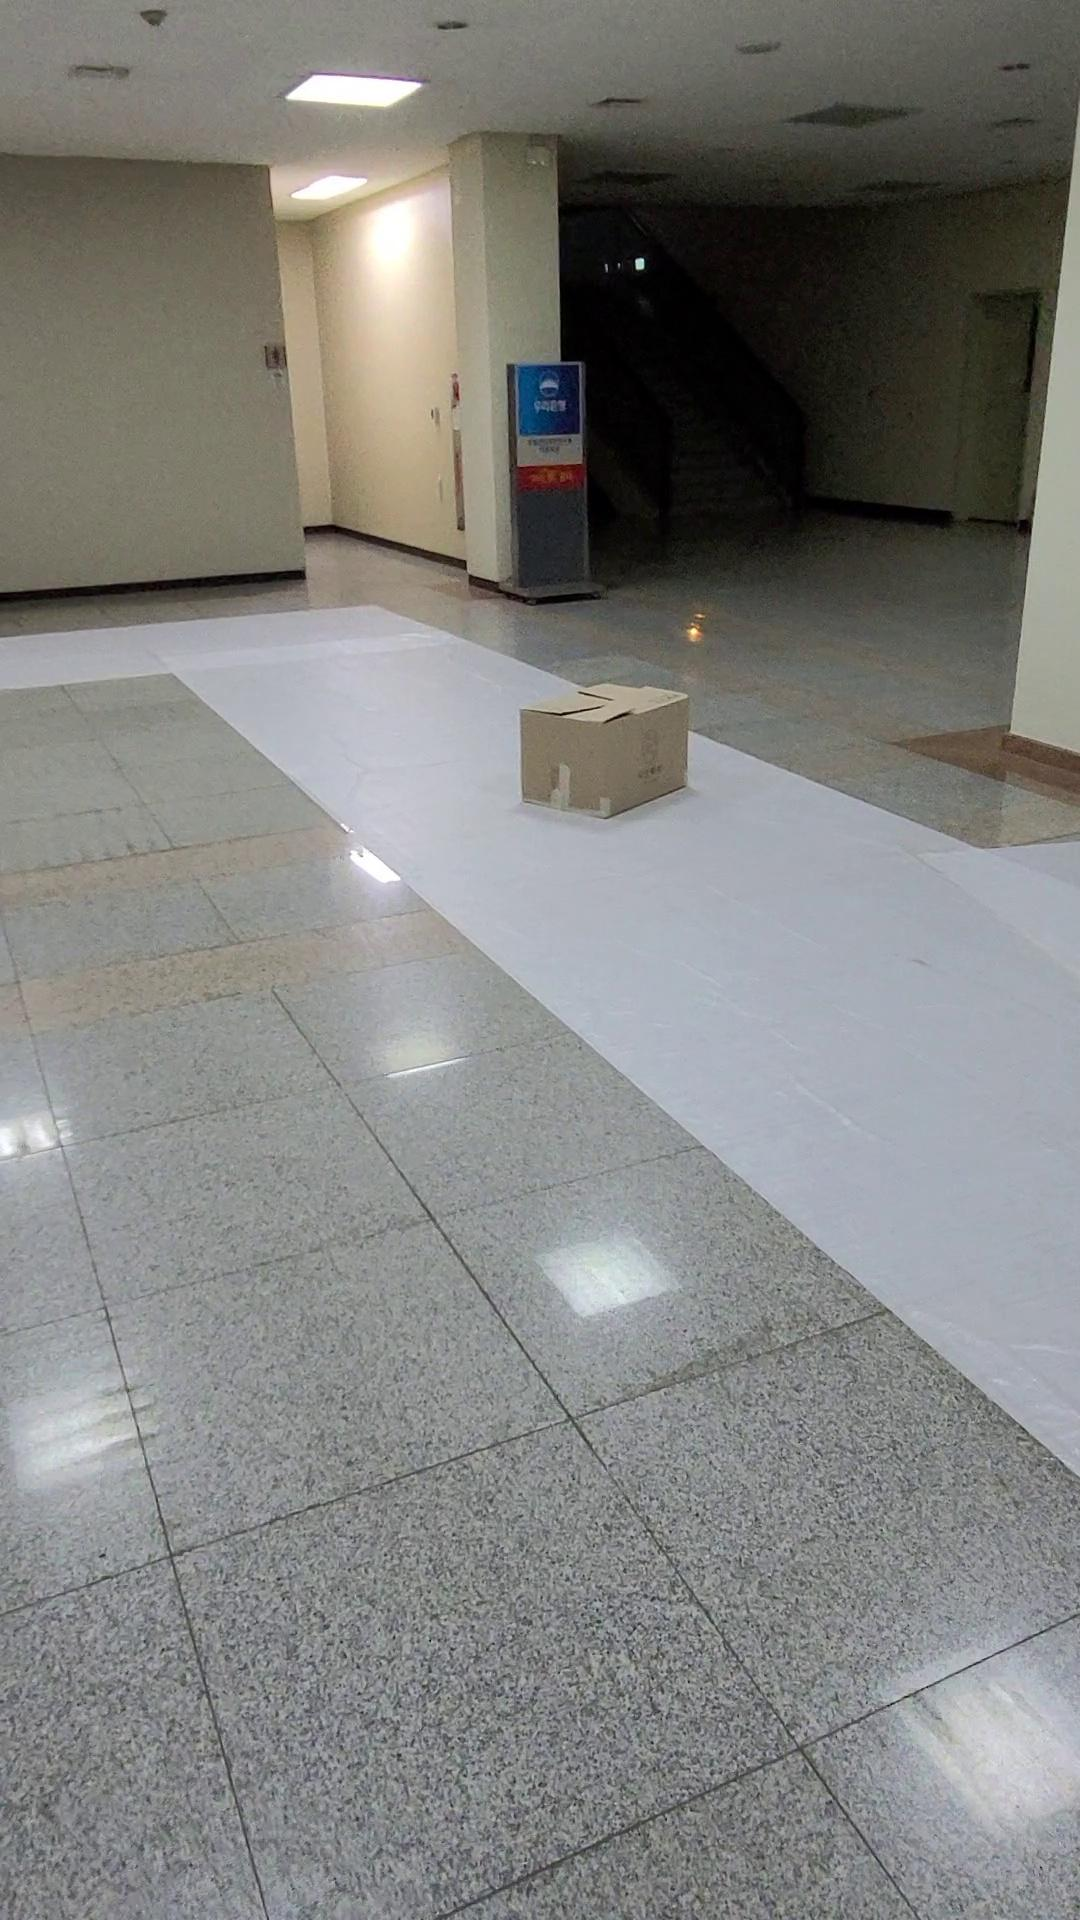Box: (483, 625, 760, 865)
